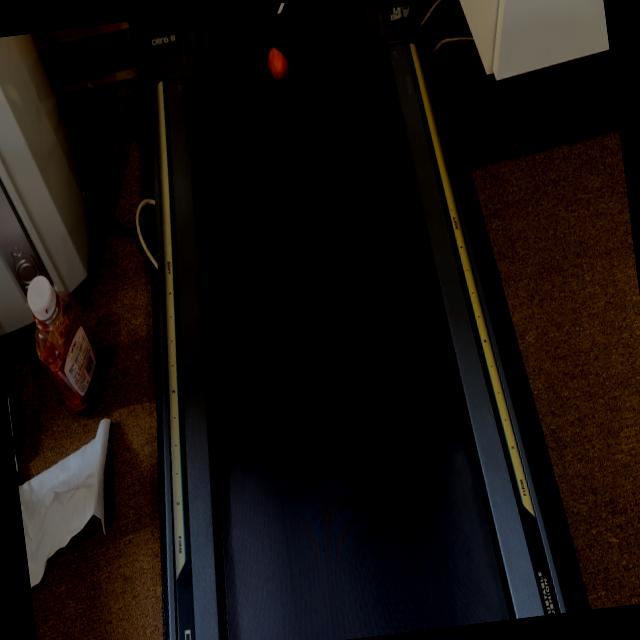Trash: (264, 44, 292, 85)
